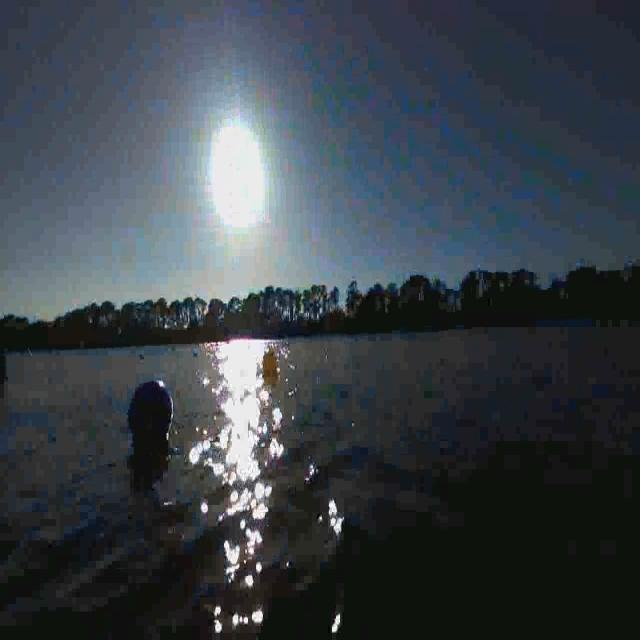blue-buoy: (129, 379, 175, 448)
yellow-buoy: (263, 348, 279, 373)
